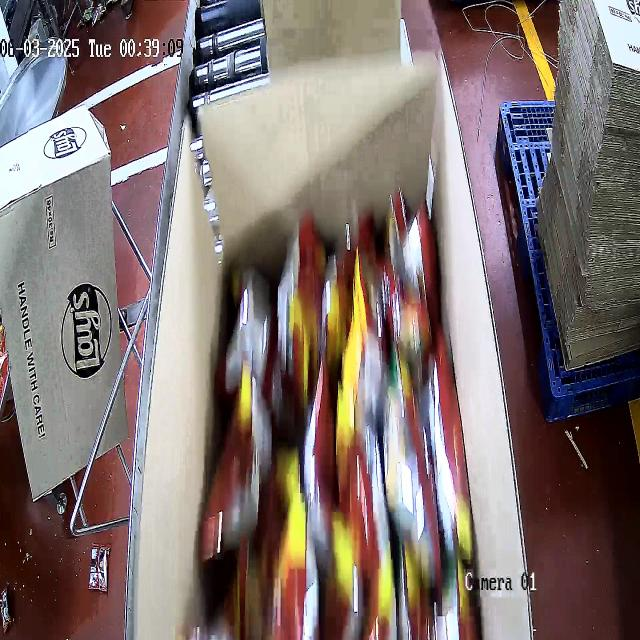MASALA: (199, 174, 480, 638)
